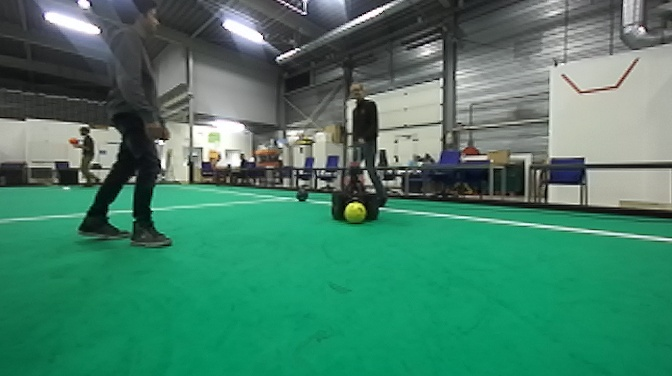ball: (344, 199, 369, 224), (295, 186, 310, 203)
human: (73, 4, 179, 251), (348, 78, 389, 208)
robot: (328, 136, 381, 223)
